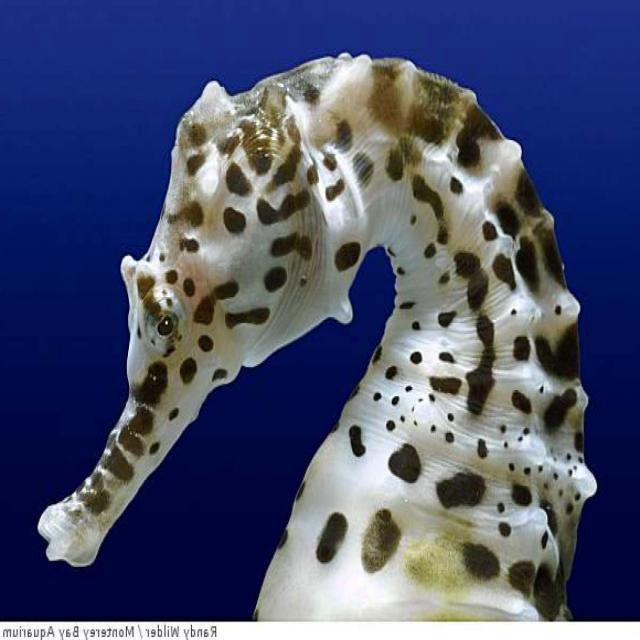seahorse: (38, 54, 597, 621)
